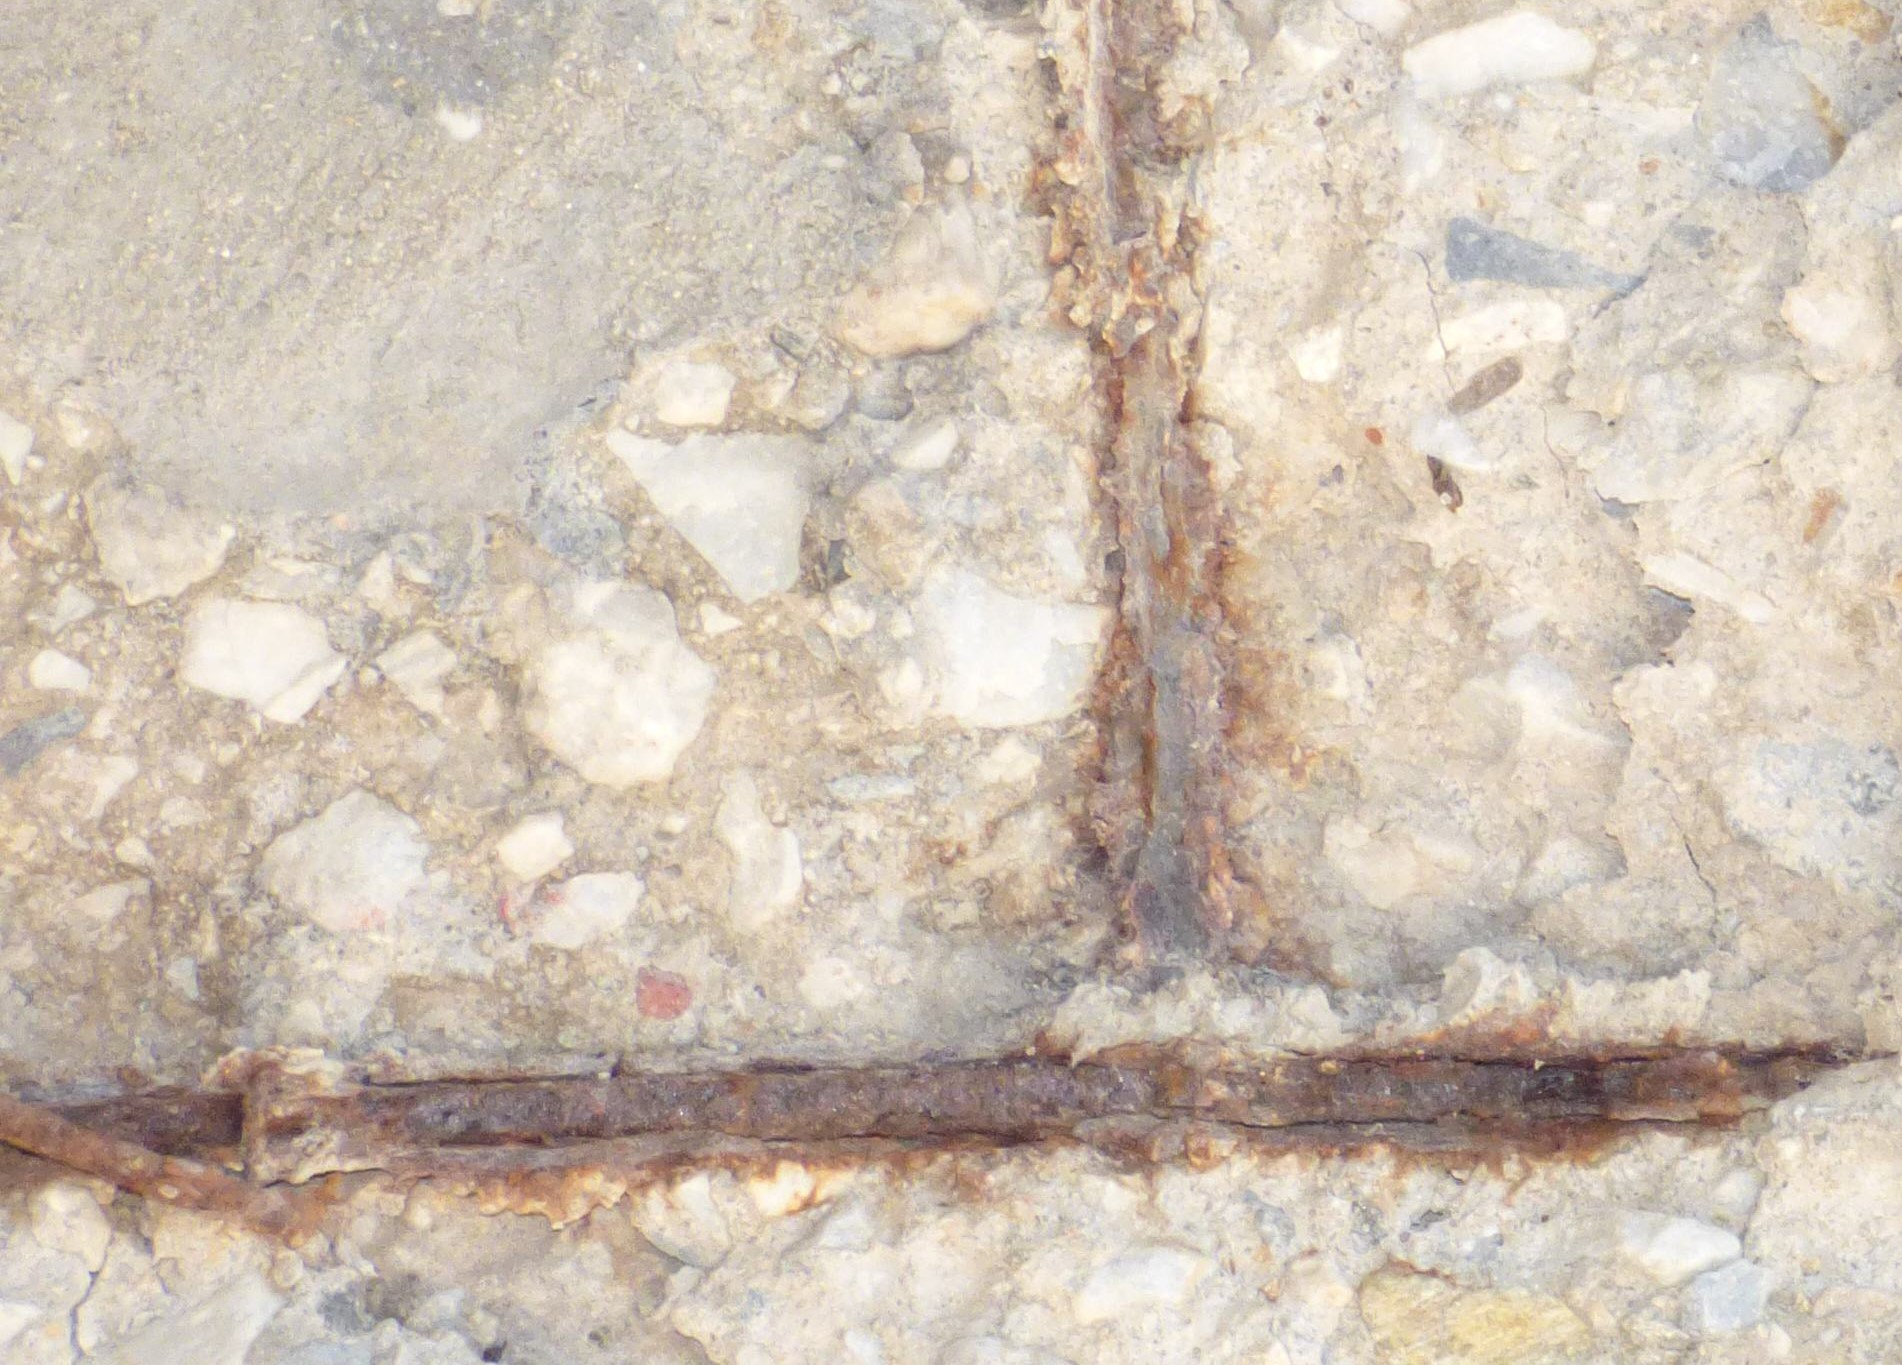Exposed reinforcement: (1, 1037, 1902, 1219), (1085, 1, 1248, 971)
